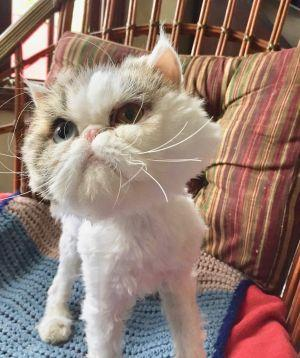persian: (21, 36, 228, 224)
